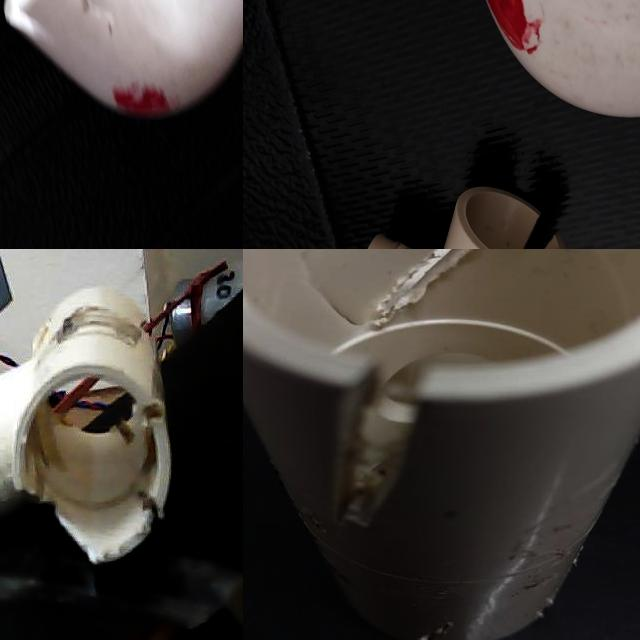Defective: (303, 337, 493, 556), (333, 249, 600, 366), (262, 142, 307, 240), (34, 504, 86, 564), (262, 129, 282, 156), (144, 496, 162, 521)
T Joint: (243, 109, 404, 249)
